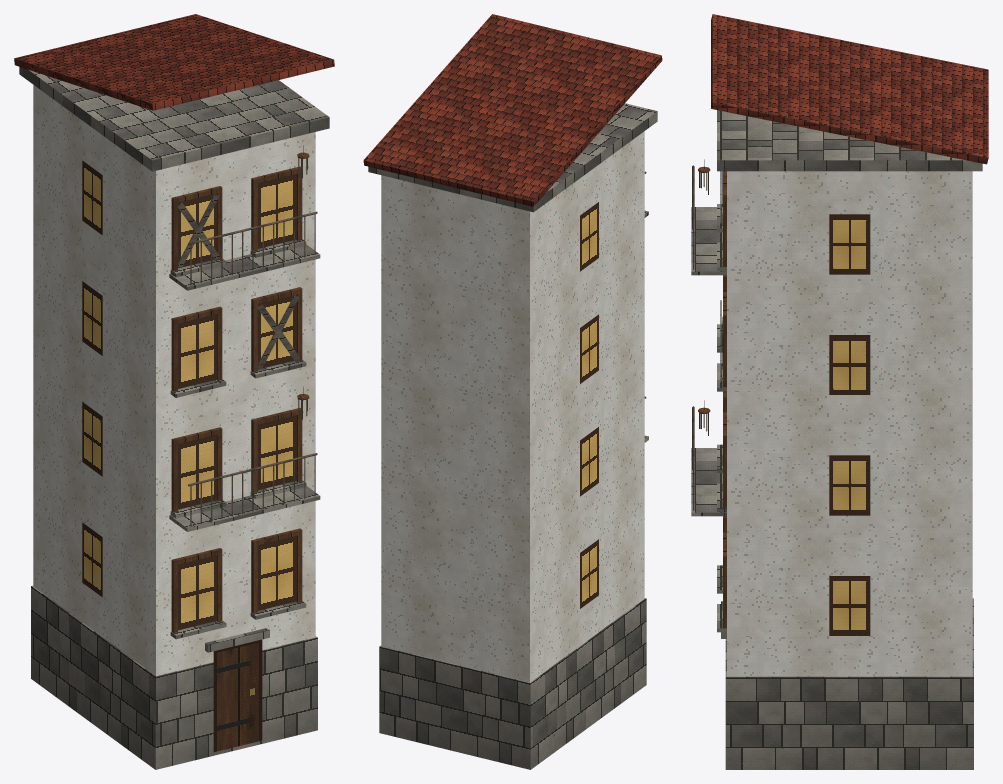
Rendered from casa_hoz.obj.
The picture shows the model from 3 angles, left to right: view 1: azimuth 30°, elevation 25°; view 2: azimuth 150°, elevation 25°; view 3: azimuth 270°, elevation 25°; orthographic projection. The views are drawn at different scales.
Visible parts, largest first — view 1: casa_hoz; view 2: casa_hoz; view 3: casa_hoz.
Boxes of the visible parts, x1=… form: casa_hoz: x1=14, y1=14, x2=334, y2=769; casa_hoz: x1=363, y1=14, x2=662, y2=769; casa_hoz: x1=691, y1=14, x2=988, y2=769.
Size of the model in its own units: 4.1 by 14.51 by 5.82.
Materials: 9 (9 with a texture image).
